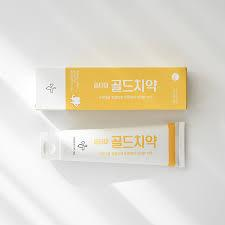toothpaste: (33, 120, 192, 173)
